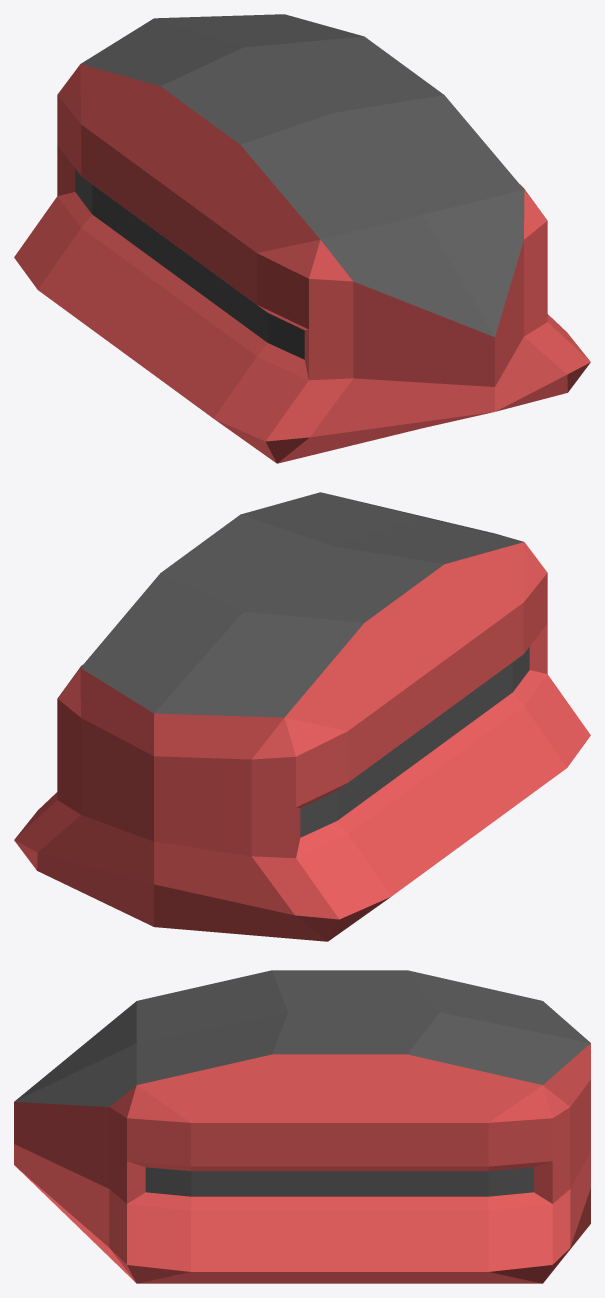
Rendered from HumanCarrier.glb.
3 views of the same model, one above another, from view 1: azimuth 30°, elevation 25°; view 2: azimuth 150°, elevation 25°; view 3: azimuth 270°, elevation 25° (orthographic). The views are drawn at different scales.
Visible parts, largest first — view 1: Cube; view 2: Cube; view 3: Cube.
Part boxes in pixels (left/top/right/bottom): Cube: left=14, top=14, right=590, bottom=463; Cube: left=14, top=492, right=590, bottom=941; Cube: left=14, top=970, right=590, bottom=1283.
Size of the model in its own units: 2.21 by 1.49 by 3.69.
